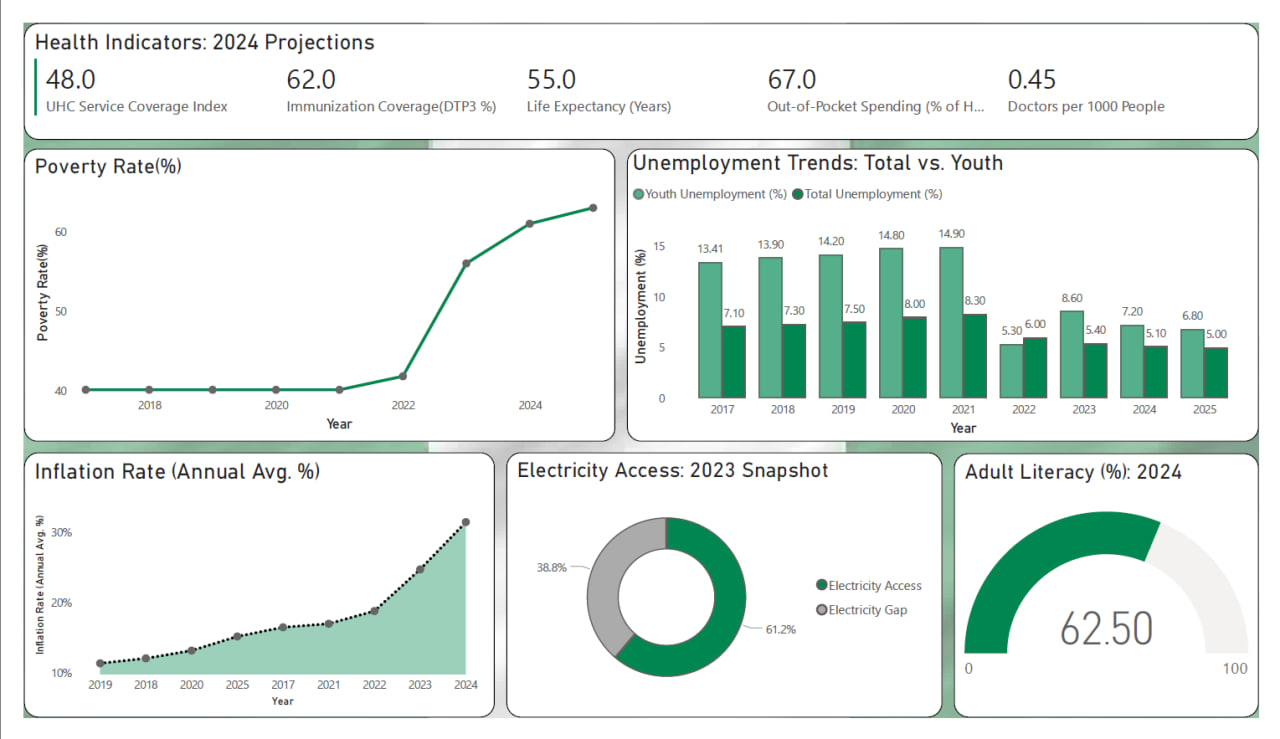

The dashboard page shown, as its layout file describes it:
{"tool":"powerbi","page":{"name":"Page 1","canvas":[1280,720],"ordinal":0},"visuals":[{"type":"lineChart","title":"Poverty Rate(%)","fields":{"Category":["Nigeria_Development_Indicators_.Year"],"Y":["Max(Nigeria_Development_Indicators_.Poverty Rate(%))"]},"box":[0,130.1,613.2,304.2],"z":0},{"type":"donutChart","title":"Electricity Access: 2023 Snapshot","fields":{"Y":["Max(Nigeria_Development_Indicators_.Electricity Access(%))","Nigeria_Development_Indicators_.Electricity Gap"]},"box":[500.2,445.1,452.2,274.9],"z":1000},{"type":"clusteredColumnChart","title":"Unemployment Trends: Total vs. Youth","fields":{"Category":["Nigeria_Development_Indicators_.Year"],"Y":["Max(Nigeria_Development_Indicators_.Youth Unemployment (%))","Max(Nigeria_Development_Indicators_.Total Unemployment (%))"]},"box":[624.6,130.1,655.5,304.2],"z":2000},{"type":"multiRowCard","title":"Health Indicators: 2024 Projections","fields":{"Values":["Max(Nigeria_Development_Indicators_.UHC Service Coverage Index(0-100))","Max(Nigeria_Development_Indicators_.Immunization Coverage(DTP3 %))","Max(Nigeria_Development_Indicators_.Life Expectancy(years))","Max(Nigeria_Development_Indicators_.Out-of-Pocket Spending(% of Health Exp))","Max(Nigeria_Development_Indicators_.Doctors per 1000 People)"]},"box":[0,0,1280.5,120.9],"z":3000},{"type":"gauge","title":" Adult Literacy (%): 2024","fields":{"Y":["Max(Nigeria_Development_Indicators_.Adult Literacy(%))"]},"box":[964,446,316,274],"z":4000},{"type":"areaChart","title":"Inflation Rate (Annual Avg. %)","fields":{"Category":["Nigeria Economic and Education.Year"],"Y":["Max(Nigeria Economic and Education.Inflation Rate (Annual Avg. %))"]},"box":[0,445.1,488,274.9],"z":6000}]}

Visuals, with their boxes in screenshot pixels (x1, y1, x2, y2), scaled from the page's 1280x720 canvas onto the 1280x739 screenshot:
"Poverty Rate(%)" lineChart: locate(0, 134, 613, 446)
"Electricity Access: 2023 Snapshot" donutChart: locate(500, 457, 952, 738)
"Unemployment Trends: Total vs. Youth" clusteredColumnChart: locate(625, 134, 1279, 446)
"Health Indicators: 2024 Projections" multiRowCard: locate(0, 0, 1279, 124)
" Adult Literacy (%): 2024" gauge: locate(964, 458, 1279, 738)
"Inflation Rate (Annual Avg. %)" areaChart: locate(0, 457, 488, 738)
